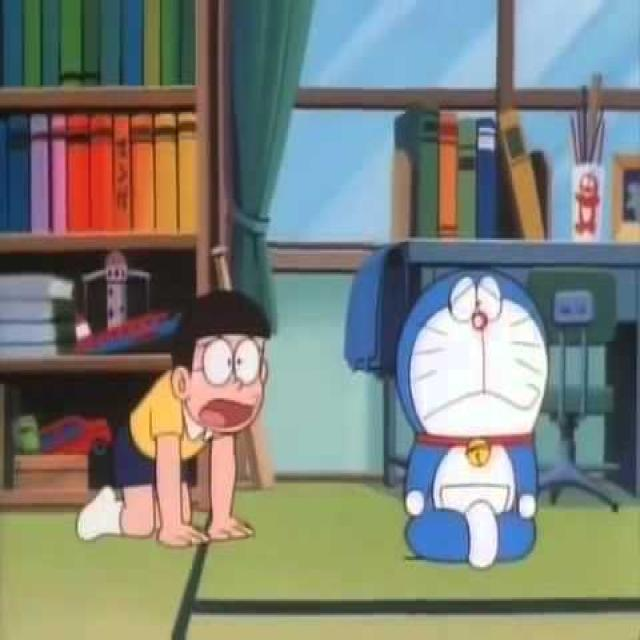doraemon: (393, 263, 556, 478)
nobita: (169, 290, 275, 442)
